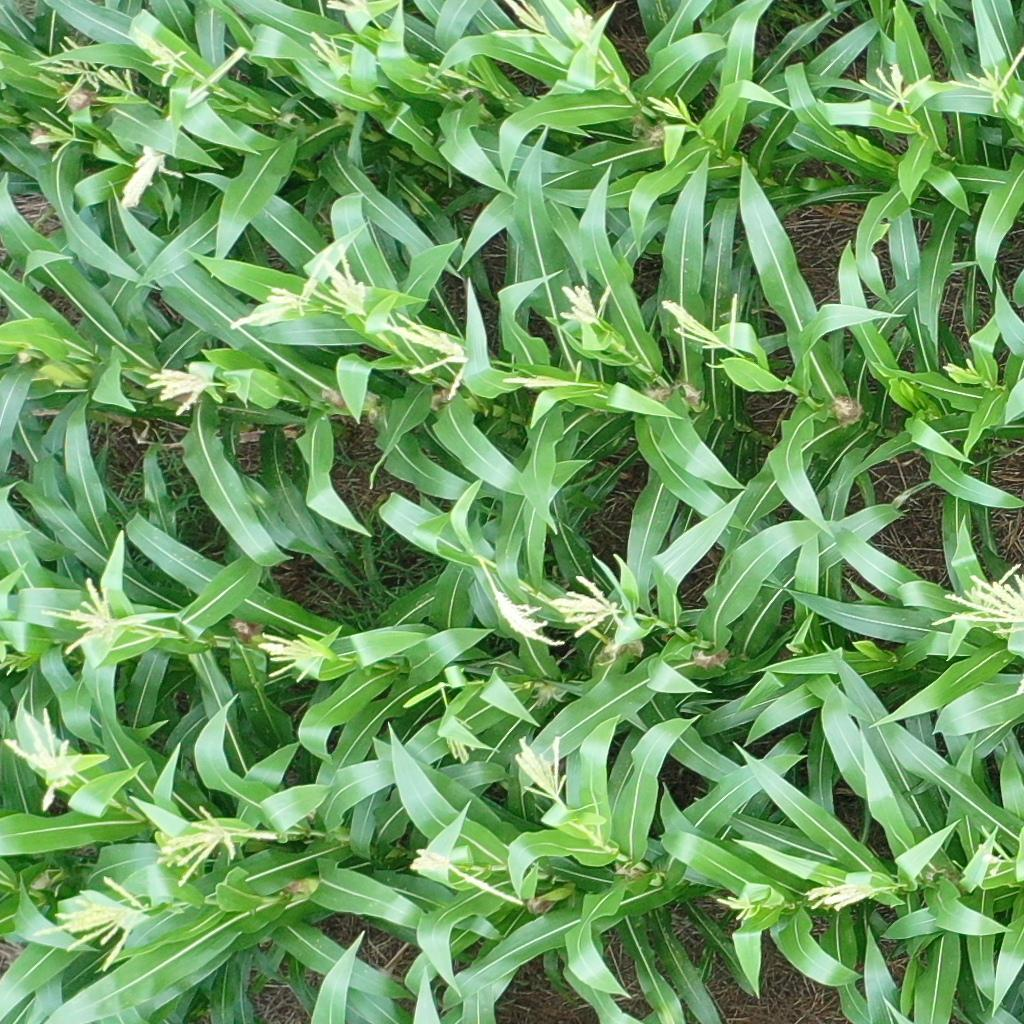Tassel: (32, 875, 146, 974), (158, 803, 281, 885), (5, 709, 96, 815), (33, 575, 143, 655), (226, 250, 334, 329), (397, 844, 527, 907), (382, 310, 471, 397), (932, 561, 1024, 636), (658, 295, 746, 366), (30, 34, 105, 114), (950, 43, 1024, 115), (486, 587, 566, 649), (144, 361, 224, 421), (549, 574, 623, 635), (313, 246, 373, 321), (511, 734, 571, 804), (133, 24, 195, 90), (256, 629, 329, 685), (796, 874, 904, 911), (856, 66, 934, 113), (120, 149, 181, 206), (556, 278, 614, 330), (26, 115, 81, 164), (499, 366, 596, 392), (302, 32, 348, 78), (494, 1, 554, 35), (441, 715, 476, 764), (94, 64, 139, 98), (716, 889, 756, 921), (567, 6, 597, 46), (644, 92, 685, 120), (323, 1, 377, 20), (1, 648, 33, 679), (942, 357, 981, 379), (980, 849, 1004, 879)
